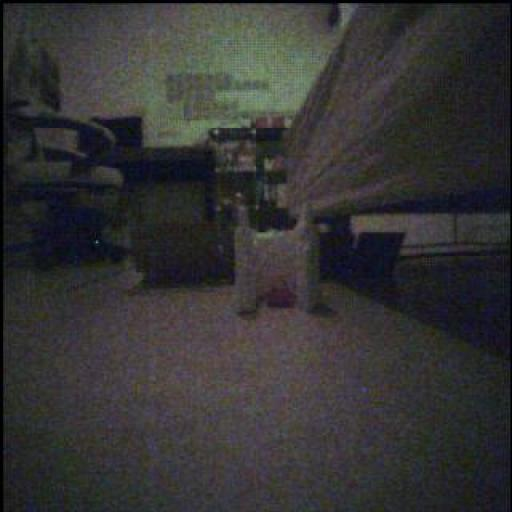basket: (269, 276, 297, 311)
